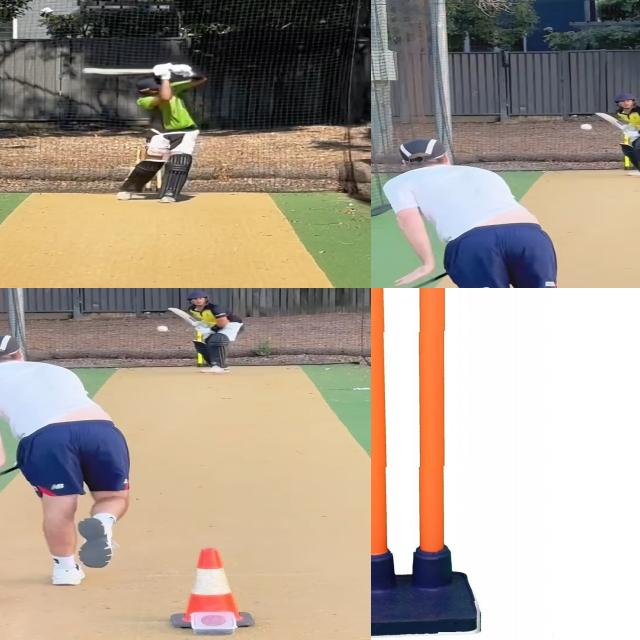Cricket ball: (580, 120, 595, 132), (156, 323, 169, 333)
Stumps: (371, 288, 483, 640)
